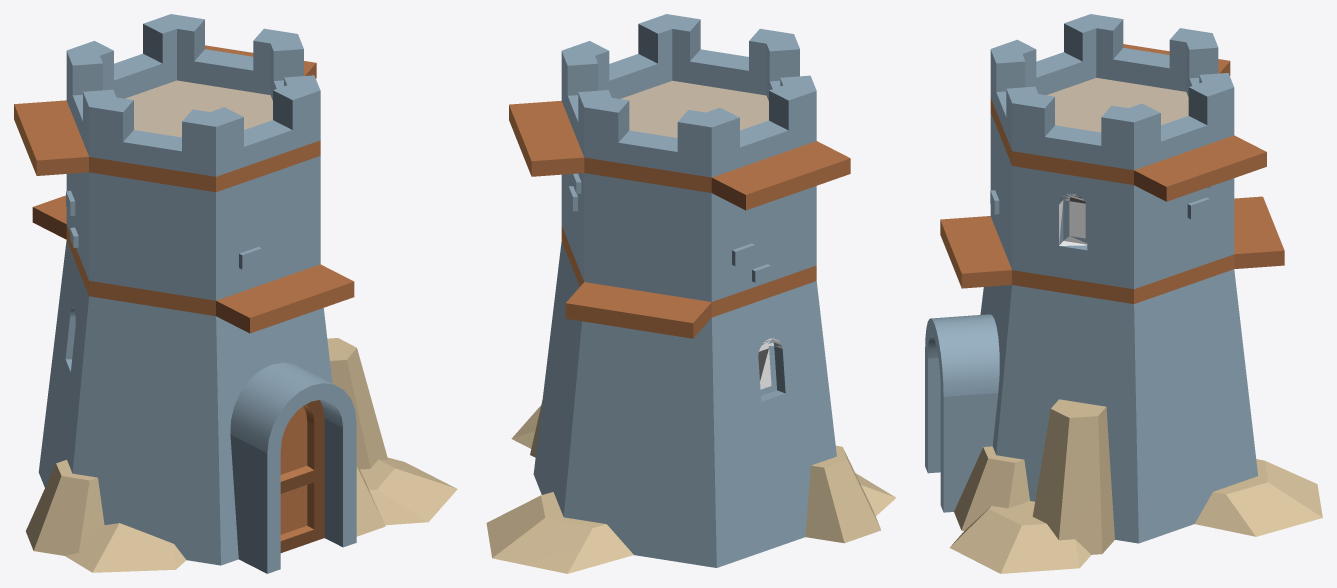
Rendered from tower.obj.
3 views of the same model, side by side, from view 1: azimuth 30°, elevation 25°; view 2: azimuth 150°, elevation 25°; view 3: azimuth 270°, elevation 25° (orthographic). The views are drawn at different scales.
Visible parts, largest first — view 1: tower; view 2: tower; view 3: tower.
Part boxes in pixels (left/top/right/bottom): tower: left=14, top=14, right=457, bottom=573; tower: left=486, top=14, right=895, bottom=573; tower: left=925, top=14, right=1322, bottom=573.
Size of the model in its own units: 3.12 by 3.33 by 2.94.
